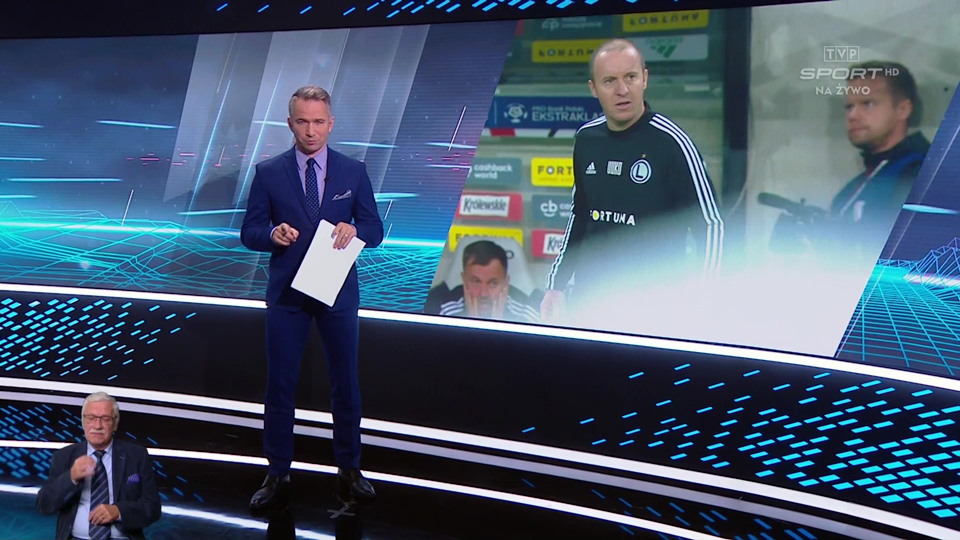Adidas: (584, 161, 598, 175)
